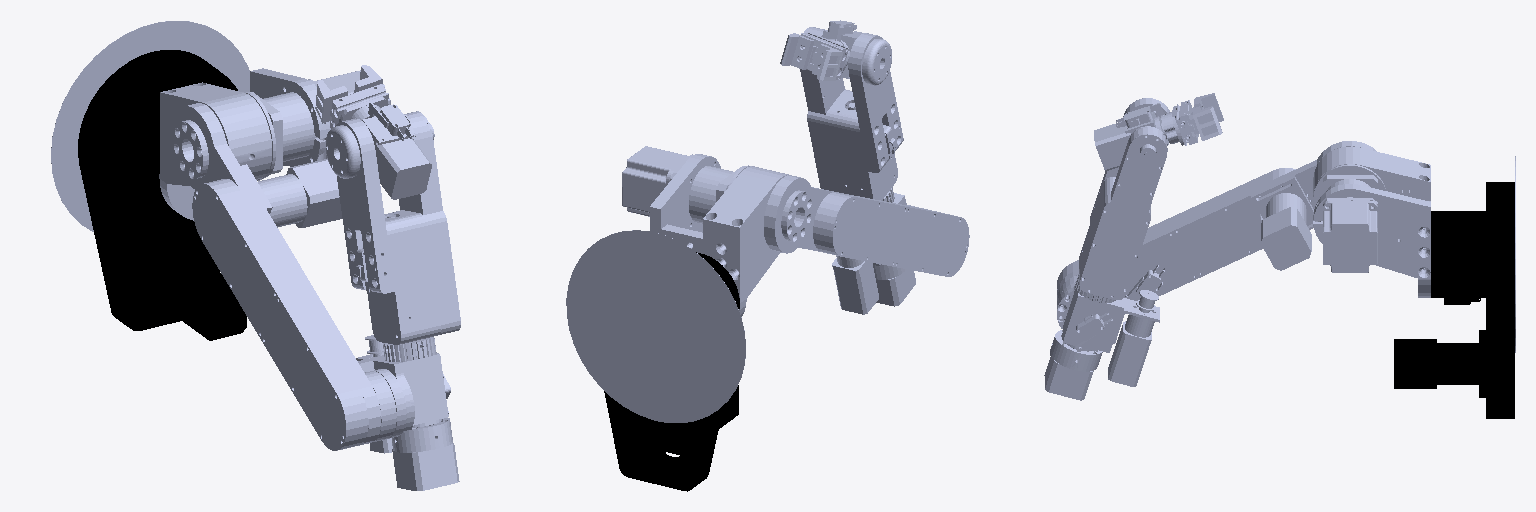
robot.urdf — AR2urdf:
<robot
  name="AR2urdf">
  <link
    name="base_link">
    <inertial>
      <origin
        xyz="0.022385 0.091307 0.13814"
        rpy="0 0 0" />
      <mass
        value="0.0041185" />
      <inertia
        ixx="1.0628E-05"
        ixy="-8.6059E-23"
        ixz="-1.8272E-21"
        iyy="1.0628E-05"
        iyz="1.0342E-21"
        izz="2.1257E-05" />
    </inertial>
    <visual>
      <origin
        xyz="0 0 0"
        rpy="0 0 0" />
      <geometry>
        <mesh
          filename="package://AR2urdf/meshes/base_link.STL" />
      </geometry>
      <material
        name="">
        <color
          rgba="0.79216 0.81961 0.93333 1" />
      </material>
    </visual>
    <collision>
      <origin
        xyz="0 0 0"
        rpy="0 0 0" />
      <geometry>
        <mesh
          filename="package://AR2urdf/meshes/base_link.STL" />
      </geometry>
    </collision>
  </link>
  <link
    name="robot_base">
    <inertial>
      <origin
        xyz="1.33668223558162E-06 -0.00667246273292242 0.0390369919658013"
        rpy="0 0 0" />
      <mass
        value="0.714415604163541" />
      <inertia
        ixx="0.0039954398696456"
        ixy="3.78762308769055E-07"
        ixz="1.74377505860711E-07"
        iyy="0.00149476529746046"
        iyz="0.000358656393832864"
        izz="0.00425217359468441" />
    </inertial>
    <visual>
      <origin
        xyz="0 0 0"
        rpy="0 0 0" />
      <geometry>
        <mesh
          filename="package://AR2urdf/meshes/robot_base.STL" />
      </geometry>
      <material
        name="">
        <color
          rgba="0 0 0 1" />
      </material>
    </visual>
    <collision>
      <origin
        xyz="0 0 0"
        rpy="0 0 0" />
      <geometry>
        <mesh
          filename="package://AR2urdf/meshes/robot_base.STL" />
      </geometry>
    </collision>
  </link>
  <joint
    name="fixed_base"
    type="fixed">
    <origin
      xyz="0.022385 -0.1382 0.043807"
      rpy="1.5708 0 0" />
    <parent
      link="base_link" />
    <child
      link="robot_base" />
    <axis
      xyz="0 0 0" />
  </joint>
  <link
    name="link_1">
    <inertial>
      <origin
        xyz="-0.00836310176368426 -0.0473833022519745 -0.0334775584371374"
        rpy="0 0 0" />
      <mass
        value="0.885312663072241" />
      <inertia
        ixx="0.00404394594026528"
        ixy="0.000456310466832901"
        ixz="3.74661200332505E-05"
        iyy="0.00347092374464127"
        iyz="-0.00138112208389163"
        izz="0.0026430551585677" />
    </inertial>
    <visual>
      <origin
        xyz="0 0 0"
        rpy="0 0 0" />
      <geometry>
        <mesh
          filename="package://AR2urdf/meshes/link_1.STL" />
      </geometry>
      <material
        name="">
        <color
          rgba="0.792156862745098 0.819607843137255 0.933333333333333 1" />
      </material>
    </visual>
    <collision>
      <origin
        xyz="0 0 0"
        rpy="0 0 0" />
      <geometry>
        <mesh
          filename="package://AR2urdf/meshes/link_1.STL" />
      </geometry>
    </collision>
  </link>
  <joint
    name="joint_1"
    type="fixed">
    <origin
      xyz="0 0.0475 0.092208"
      rpy="3.1416 0 -0.65098" />
    <parent
      link="robot_base" />
    <child
      link="link_1" />
    <axis
      xyz="0 0 0" />
  </joint>
  <link
    name="link_2">
    <inertial>
      <origin
        xyz="0.000277137234849512 0.127575058974507 0.0396630207589868"
        rpy="0 0 0" />
      <mass
        value="0.582051758501706" />
      <inertia
        ixx="0.00623764341356295"
        ixy="9.07856184897775E-06"
        ixz="4.51361333240678E-06"
        iyy="0.000788049674267171"
        iyz="-0.000716048738917043"
        izz="0.00582146304987264" />
    </inertial>
    <visual>
      <origin
        xyz="0 0 0"
        rpy="0 0 0" />
      <geometry>
        <mesh
          filename="package://AR2urdf/meshes/link_2.STL" />
      </geometry>
      <material
        name="">
        <color
          rgba="0.792156862745098 0.819607843137255 0.933333333333333 1" />
      </material>
    </visual>
    <collision>
      <origin
        xyz="0 0 0"
        rpy="0 0 0" />
      <geometry>
        <mesh
          filename="package://AR2urdf/meshes/link_2.STL" />
      </geometry>
    </collision>
  </link>
  <joint
    name="joint_2"
    type="continuous">
    <origin
      xyz="-0.038373 -0.051402 -0.077575"
      rpy="-1.5708 -0.4707 0.92952" />
    <parent
      link="link_1" />
    <child
      link="link_2" />
    <axis
      xyz="0 0 -1" />
  </joint>
  <link
    name="link_3">
    <inertial>
      <origin
        xyz="6.95508154049951E-05 -0.0241600254878378 -0.00176803240129416"
        rpy="0 0 0" />
      <mass
        value="0.187698685934" />
      <inertia
        ixx="0.000185716585043215"
        ixy="-2.94639183462075E-05"
        ixz="5.10619107197068E-06"
        iyy="0.000136050512624381"
        iyz="2.73533852713673E-05"
        izz="0.00022027050365671" />
    </inertial>
    <visual>
      <origin
        xyz="0 0 0"
        rpy="0 0 0" />
      <geometry>
        <mesh
          filename="package://AR2urdf/meshes/link_3.STL" />
      </geometry>
      <material
        name="">
        <color
          rgba="0.792156862745098 0.819607843137255 0.933333333333333 1" />
      </material>
    </visual>
    <collision>
      <origin
        xyz="0 0 0"
        rpy="0 0 0" />
      <geometry>
        <mesh
          filename="package://AR2urdf/meshes/link_3.STL" />
      </geometry>
    </collision>
  </link>
  <joint
    name="joint_3"
    type="continuous">
    <origin
      xyz="0 0.305 0"
      rpy="3.1416 -1.9217E-15 -2.3817" />
    <parent
      link="link_2" />
    <child
      link="link_3" />
    <axis
      xyz="0 0 1" />
  </joint>
  <link
    name="link_4">
    <inertial>
      <origin
        xyz="-0.00376385445339366 -3.78882084114407E-05 -0.0795107496446484"
        rpy="0 0 0" />
      <mass
        value="0.328450297861234" />
      <inertia
        ixx="0.00293063334981313"
        ixy="-2.60511381225412E-07"
        ixz="7.5263130398278E-05"
        iyy="0.00299562834175631"
        iyz="3.02009846908714E-07"
        izz="0.000222429310194749" />
    </inertial>
    <visual>
      <origin
        xyz="0 0 0"
        rpy="0 0 0" />
      <geometry>
        <mesh
          filename="package://AR2urdf/meshes/link_4.STL" />
      </geometry>
      <material
        name="">
        <color
          rgba="0.792156862745098 0.819607843137255 0.933333333333333 1" />
      </material>
    </visual>
    <collision>
      <origin
        xyz="0 0 0"
        rpy="0 0 0" />
      <geometry>
        <mesh
          filename="package://AR2urdf/meshes/link_4.STL" />
      </geometry>
    </collision>
  </link>
  <joint
    name="joint_4"
    type="continuous">
    <origin
      xyz="0 0 0"
      rpy="-1.5708 1.5606 1.5708" />
    <parent
      link="link_3" />
    <child
      link="link_4" />
    <axis
      xyz="0 0 -1" />
  </joint>
  <link
    name="link_5">
    <inertial>
      <origin
        xyz="0.0120449060101726 0.00597563925853658 0.00164944308662063"
        rpy="0 0 0" />
      <mass
        value="0.120295967616122" />
      <inertia
        ixx="5.52580754099345E-05"
        ixy="-2.35108173894111E-06"
        ixz="-2.52587301631158E-07"
        iyy="5.89968237588527E-05"
        iyz="-9.11685448688073E-07"
        izz="8.3862347910248E-05" />
    </inertial>
    <visual>
      <origin
        xyz="0 0 0"
        rpy="0 0 0" />
      <geometry>
        <mesh
          filename="package://AR2urdf/meshes/link_5.STL" />
      </geometry>
      <material
        name="">
        <color
          rgba="0.792156862745098 0.819607843137255 0.933333333333333 1" />
      </material>
    </visual>
    <collision>
      <origin
        xyz="0 0 0"
        rpy="0 0 0" />
      <geometry>
        <mesh
          filename="package://AR2urdf/meshes/link_5.STL" />
      </geometry>
    </collision>
  </link>
  <joint
    name="joint_5"
    type="continuous">
    <origin
      xyz="0 -6.0957E-05 -0.22263"
      rpy="-3.1416 -0.67961 -1.5708" />
    <parent
      link="link_4" />
    <child
      link="link_5" />
    <axis
      xyz="0 1 0" />
  </joint>
  <link
    name="link_6">
    <inertial>
      <origin
        xyz="0.000328627274608168 -4.58615978526922E-10 0.0189708366245626"
        rpy="0 0 0" />
      <mass
        value="0.0491815041868983" />
      <inertia
        ixx="1.29288042843526E-05"
        ixy="1.57250890621741E-08"
        ixz="-9.90165572152536E-08"
        iyy="1.98530356035618E-05"
        iyz="6.33654785109739E-09"
        izz="1.43400681149379E-05" />
    </inertial>
    <visual>
      <origin
        xyz="0 0 0"
        rpy="0 0 0" />
      <geometry>
        <mesh
          filename="package://AR2urdf/meshes/link_6.STL" />
      </geometry>
      <material
        name="">
        <color
          rgba="0.792156862745098 0.819607843137255 0.933333333333333 1" />
      </material>
    </visual>
    <collision>
      <origin
        xyz="0 0 0"
        rpy="0 0 0" />
      <geometry>
        <mesh
          filename="package://AR2urdf/meshes/link_6.STL" />
      </geometry>
    </collision>
  </link>
  <joint
    name="joint_6"
    type="continuous">
    <origin
      xyz="-0.026509 0.0075703 -0.0014816"
      rpy="-1.6272 -0.13926 1.5786" />
    <parent
      link="link_5" />
    <child
      link="link_6" />
    <axis
      xyz="0 0 -1" />
  </joint>
</robot>

--- Render facts (derived) ---
The picture shows the robot from 3 angles, left to right: view 1: azimuth 30°, elevation 25°; view 2: azimuth 150°, elevation 25°; view 3: azimuth 270°, elevation 25°; orthographic projection.
Robot: AR2urdf — 8 links, 7 joints (5 continuous, 2 fixed); root link base_link; default pose: every joint at zero.
Visible links, largest first — view 1: link_2, robot_base, link_4, link_1, base_link, link_5, link_3, link_6; view 2: base_link, link_1, link_2, link_4, robot_base, link_6, link_3, link_5; view 3: robot_base, link_2, link_1, link_4, link_3, link_5, link_6.
Boxes of the visible links, left/top/right/bottom form: link_2: left=172, top=92, right=396, bottom=450; robot_base: left=78, top=50, right=246, bottom=340; link_4: left=335, top=111, right=460, bottom=490; link_1: left=159, top=68, right=390, bottom=220; base_link: left=51, top=21, right=249, bottom=231; link_5: left=326, top=102, right=434, bottom=199; link_3: left=356, top=335, right=450, bottom=453; link_6: left=315, top=65, right=388, bottom=128; base_link: left=566, top=230, right=745, bottom=422; link_1: left=622, top=146, right=788, bottom=316; link_2: left=728, top=165, right=969, bottom=276; link_4: left=800, top=27, right=915, bottom=306; robot_base: left=604, top=252, right=739, bottom=491; link_6: left=780, top=33, right=848, bottom=80; link_3: left=832, top=193, right=914, bottom=314; link_5: left=822, top=20, right=891, bottom=85; robot_base: left=1394, top=182, right=1514, bottom=418; link_2: left=1057, top=141, right=1385, bottom=300; link_1: left=1313, top=146, right=1430, bottom=297; link_4: left=1044, top=98, right=1169, bottom=400; link_3: left=1057, top=283, right=1159, bottom=386; link_5: left=1094, top=98, right=1168, bottom=170; link_6: left=1161, top=93, right=1223, bottom=145.
Bounding box of the posed robot: 0.2222 × 0.4843 × 0.3512 m (x, y, z).
Meshes: 8 distinct files referenced, 8 mesh visuals loaded (8 binary STL).